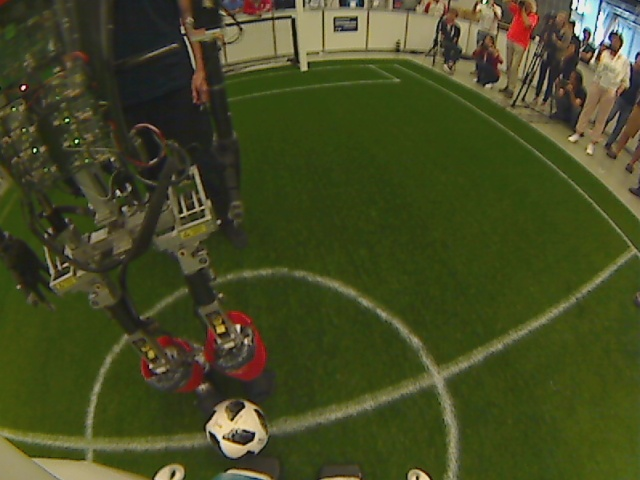ball: (203, 400, 273, 460)
goalpost: (288, 50, 320, 82)
robot: (128, 312, 279, 398)
